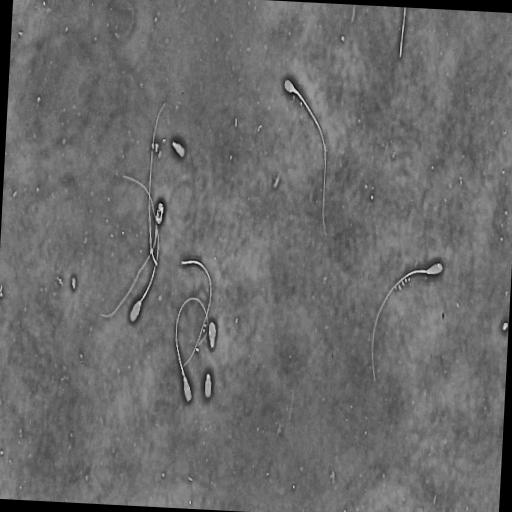loose-head: (170, 138, 187, 160), (207, 318, 218, 350), (203, 370, 213, 402)
loose-tail: (179, 258, 214, 371), (148, 99, 168, 270), (397, 7, 408, 60)
normal: (368, 256, 448, 390), (100, 198, 166, 318), (282, 75, 328, 242), (120, 174, 160, 325), (174, 294, 209, 405)
